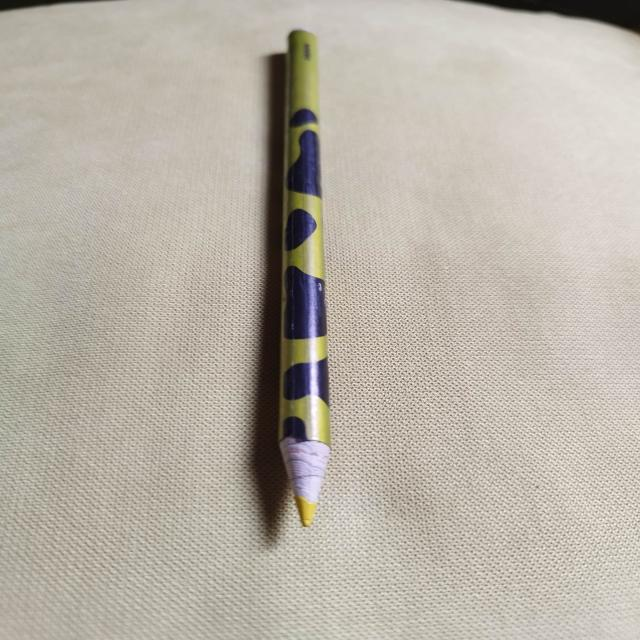pencil: (277, 28, 331, 527)
